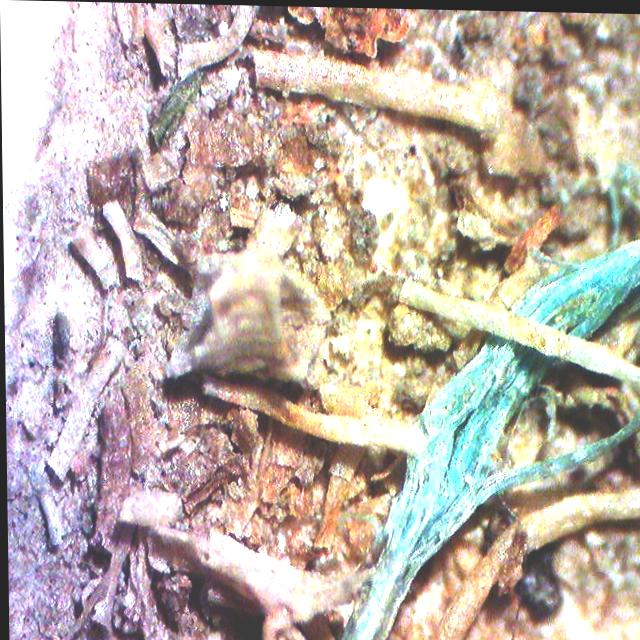microplastic: (335, 333, 640, 640), (503, 236, 640, 335)
